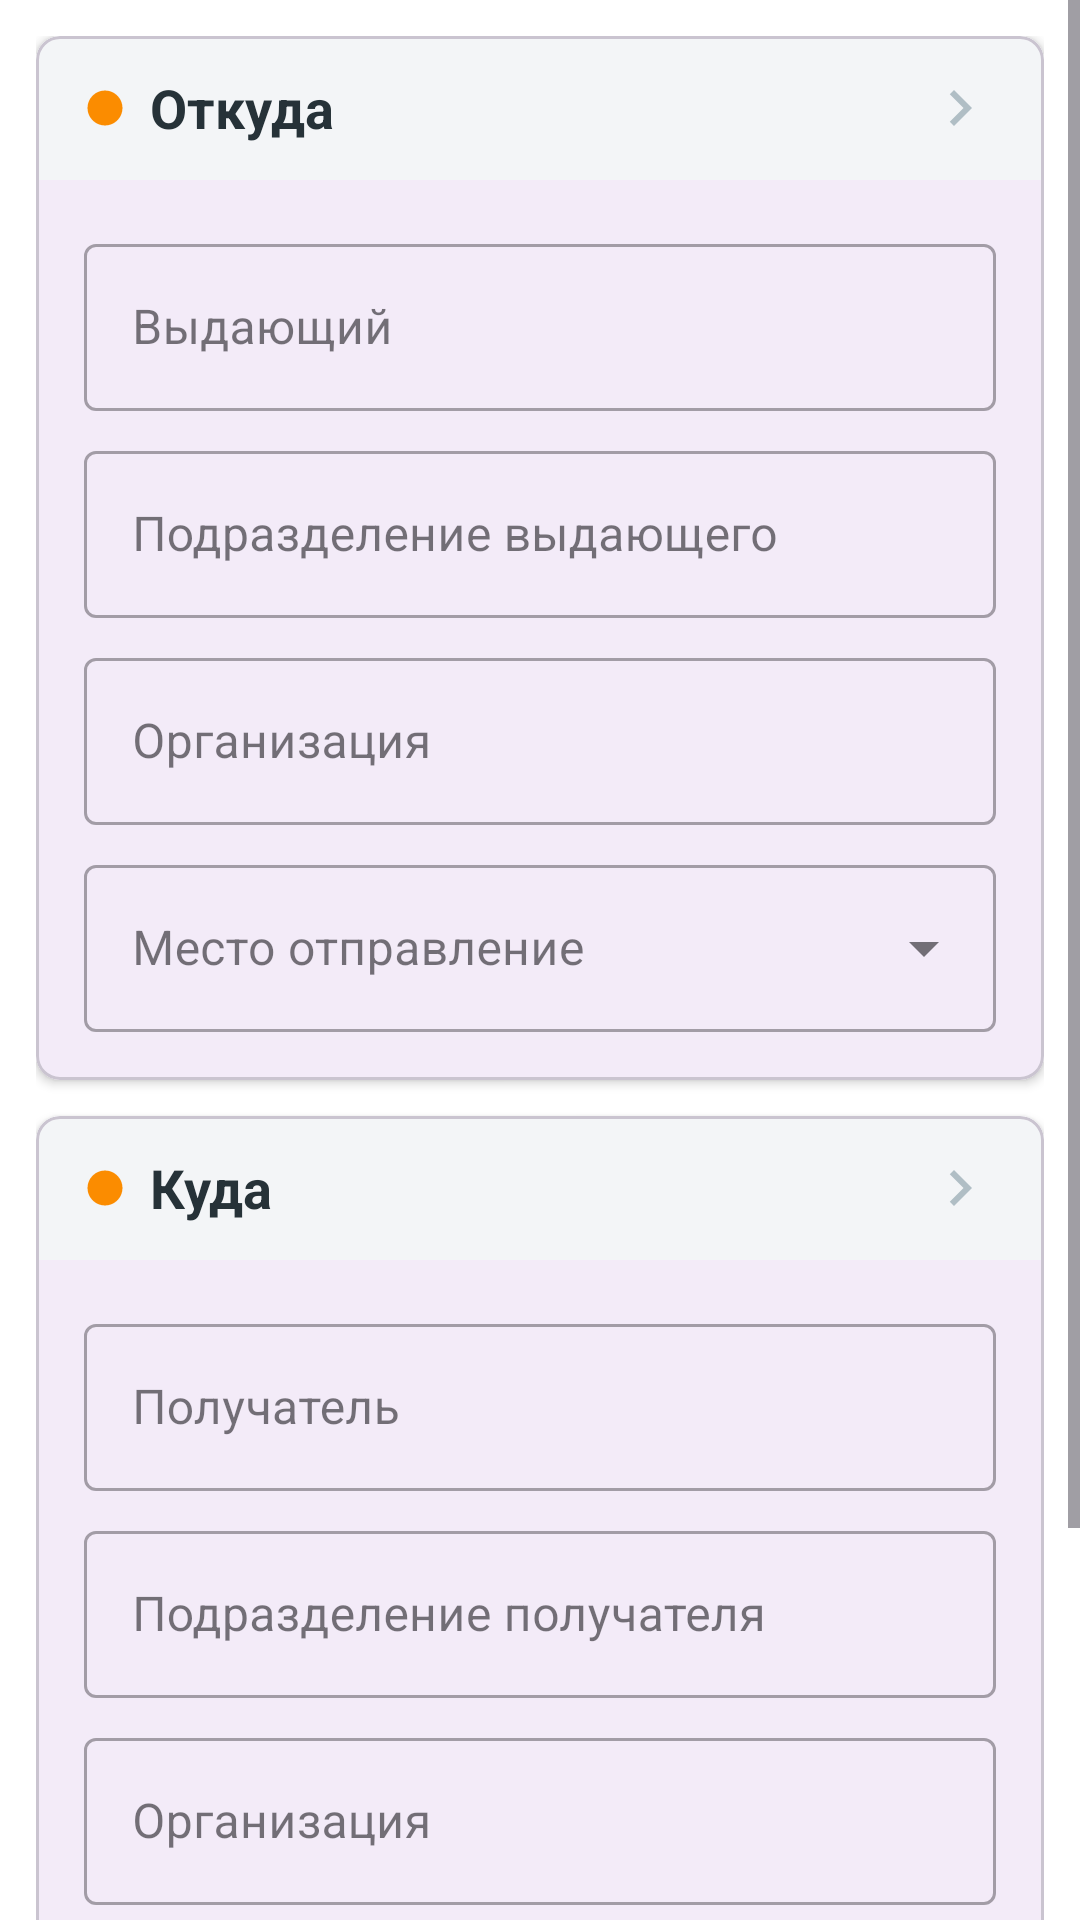

Icons on this 1080 × 1920 Android screen, each with the point to tap as point (x, y):
chevron right: point (961, 108), point (961, 1188)
